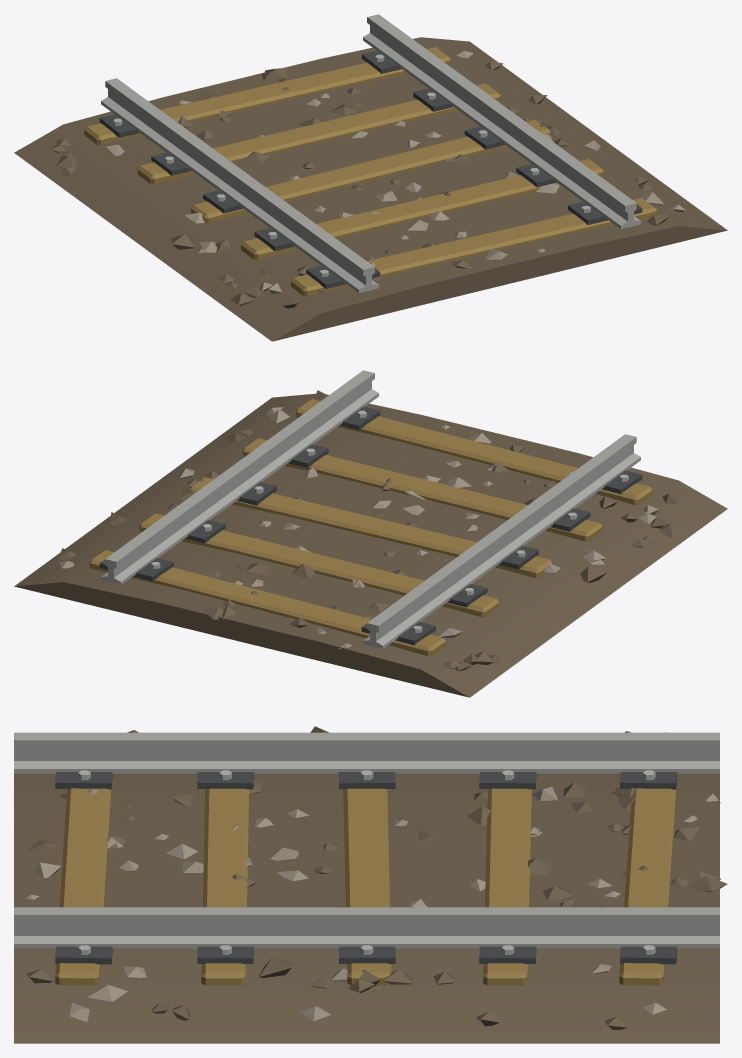
The model's file is legacy-straight-rail.glb.
3 renders of one model, top to bottom at view 1: azimuth 30°, elevation 25°; view 2: azimuth 150°, elevation 25°; view 3: azimuth 270°, elevation 25°, orthographic. The views are drawn at different scales.
Visible parts, largest first — view 1: body; view 2: body; view 3: body.
Part boxes in pixels (x1,y1,x2,y2): body: (14,14,727,341); body: (14,370,727,697); body: (14,726,727,1043).
Size of the model in its own units: 2.04 by 0.2158 by 2.02.
